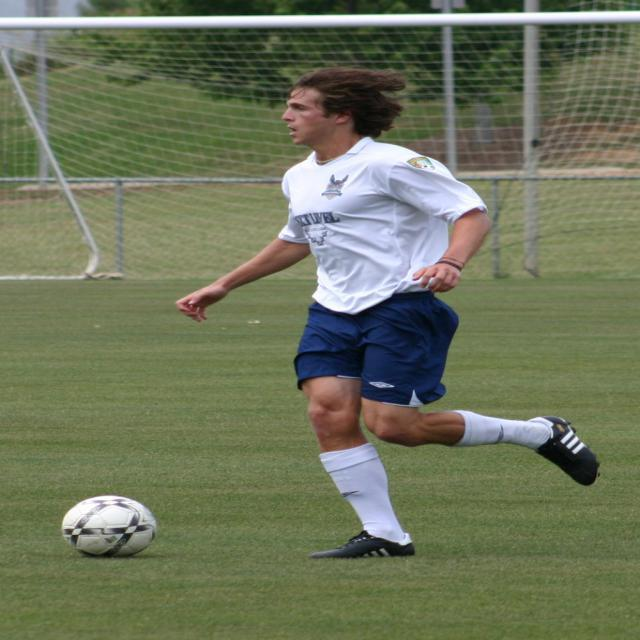football: (54, 490, 180, 555)
